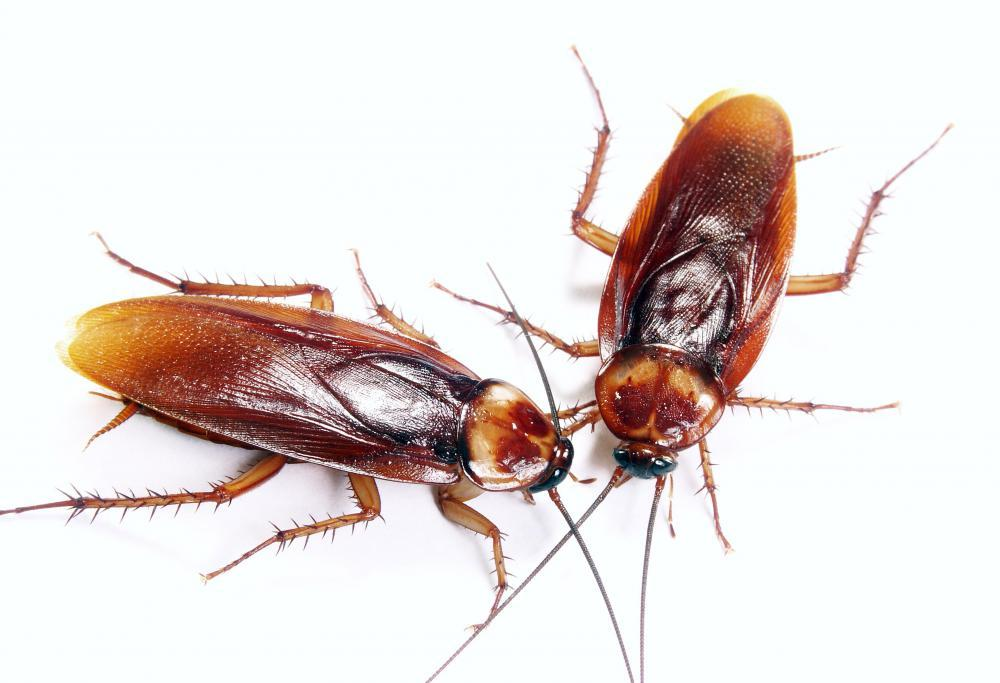cockroach: (56, 260, 576, 556), (574, 83, 798, 488)
